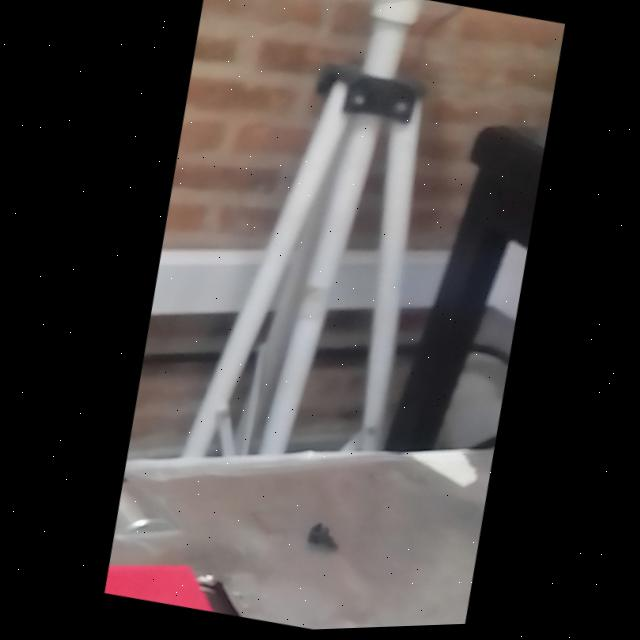redBox: (97, 542, 246, 622)
